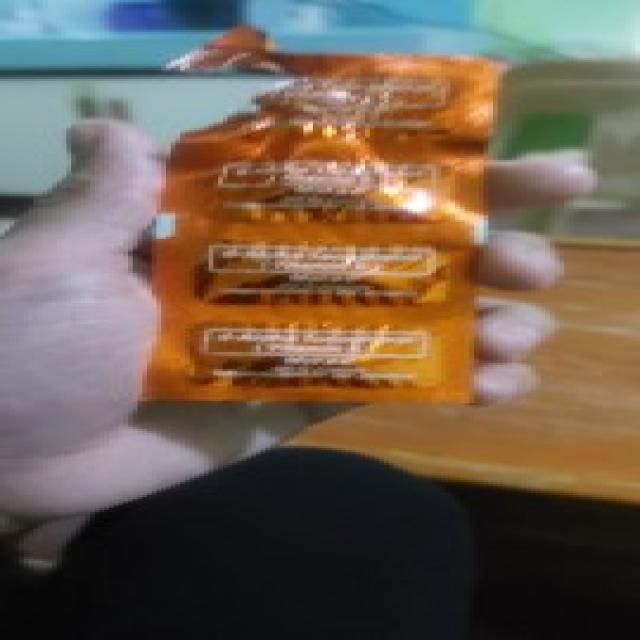Cacat: (146, 25, 507, 402)
Kemasan: (158, 26, 362, 140)
